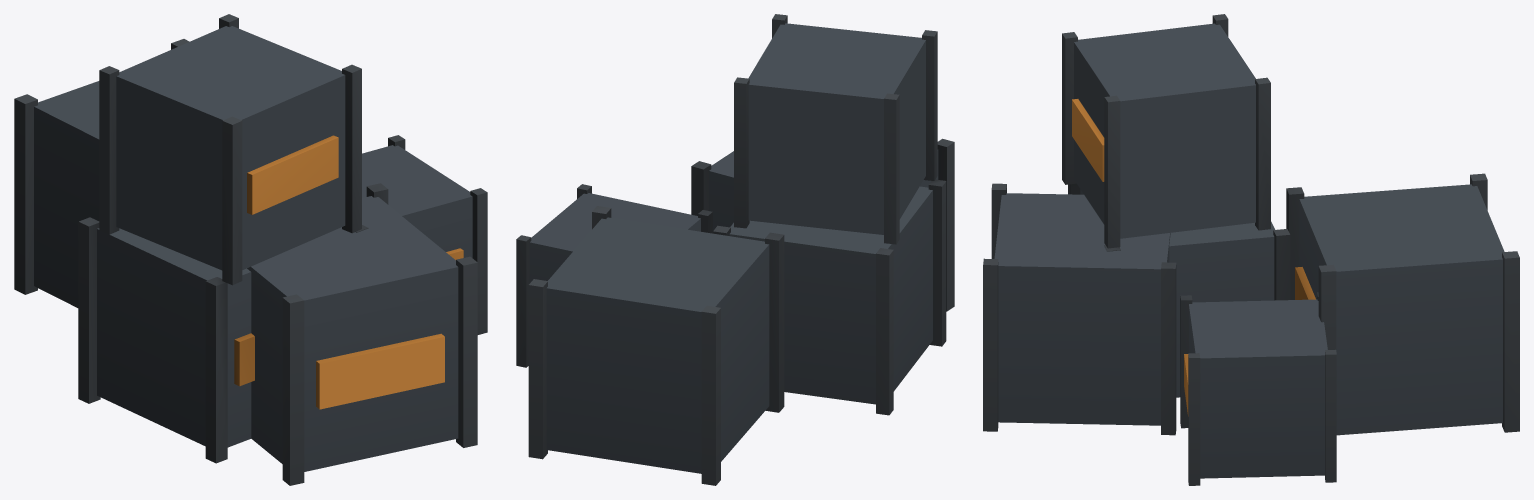
Rendered from obj_cajas.glb.
3 views of the same model, side by side, from view 1: azimuth 30°, elevation 25°; view 2: azimuth 150°, elevation 25°; view 3: azimuth 270°, elevation 25° (orthographic). The views are drawn at different scales.
Parts seen in each view (by area): view 1: propforge-libre-cajas; view 2: propforge-libre-cajas; view 3: propforge-libre-cajas.
Boxes of the visible parts, x1,y1,x2,y2 form: propforge-libre-cajas: (14, 14, 487, 485); propforge-libre-cajas: (516, 14, 954, 485); propforge-libre-cajas: (983, 14, 1519, 485).
Size of the model in its own units: 0.9439 by 0.8124 by 1.28.
